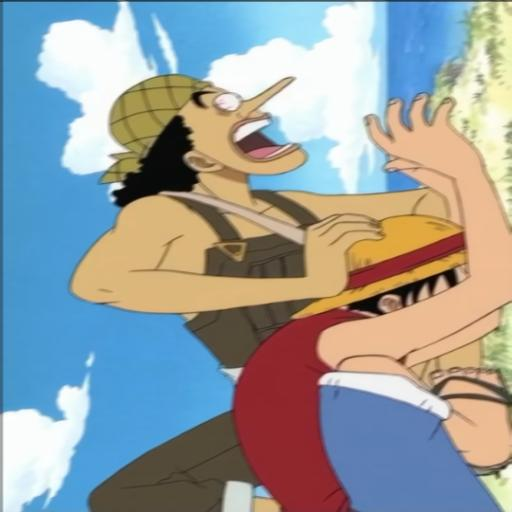Luffy: (274, 198, 511, 512)
Usopp: (28, 80, 296, 512)
